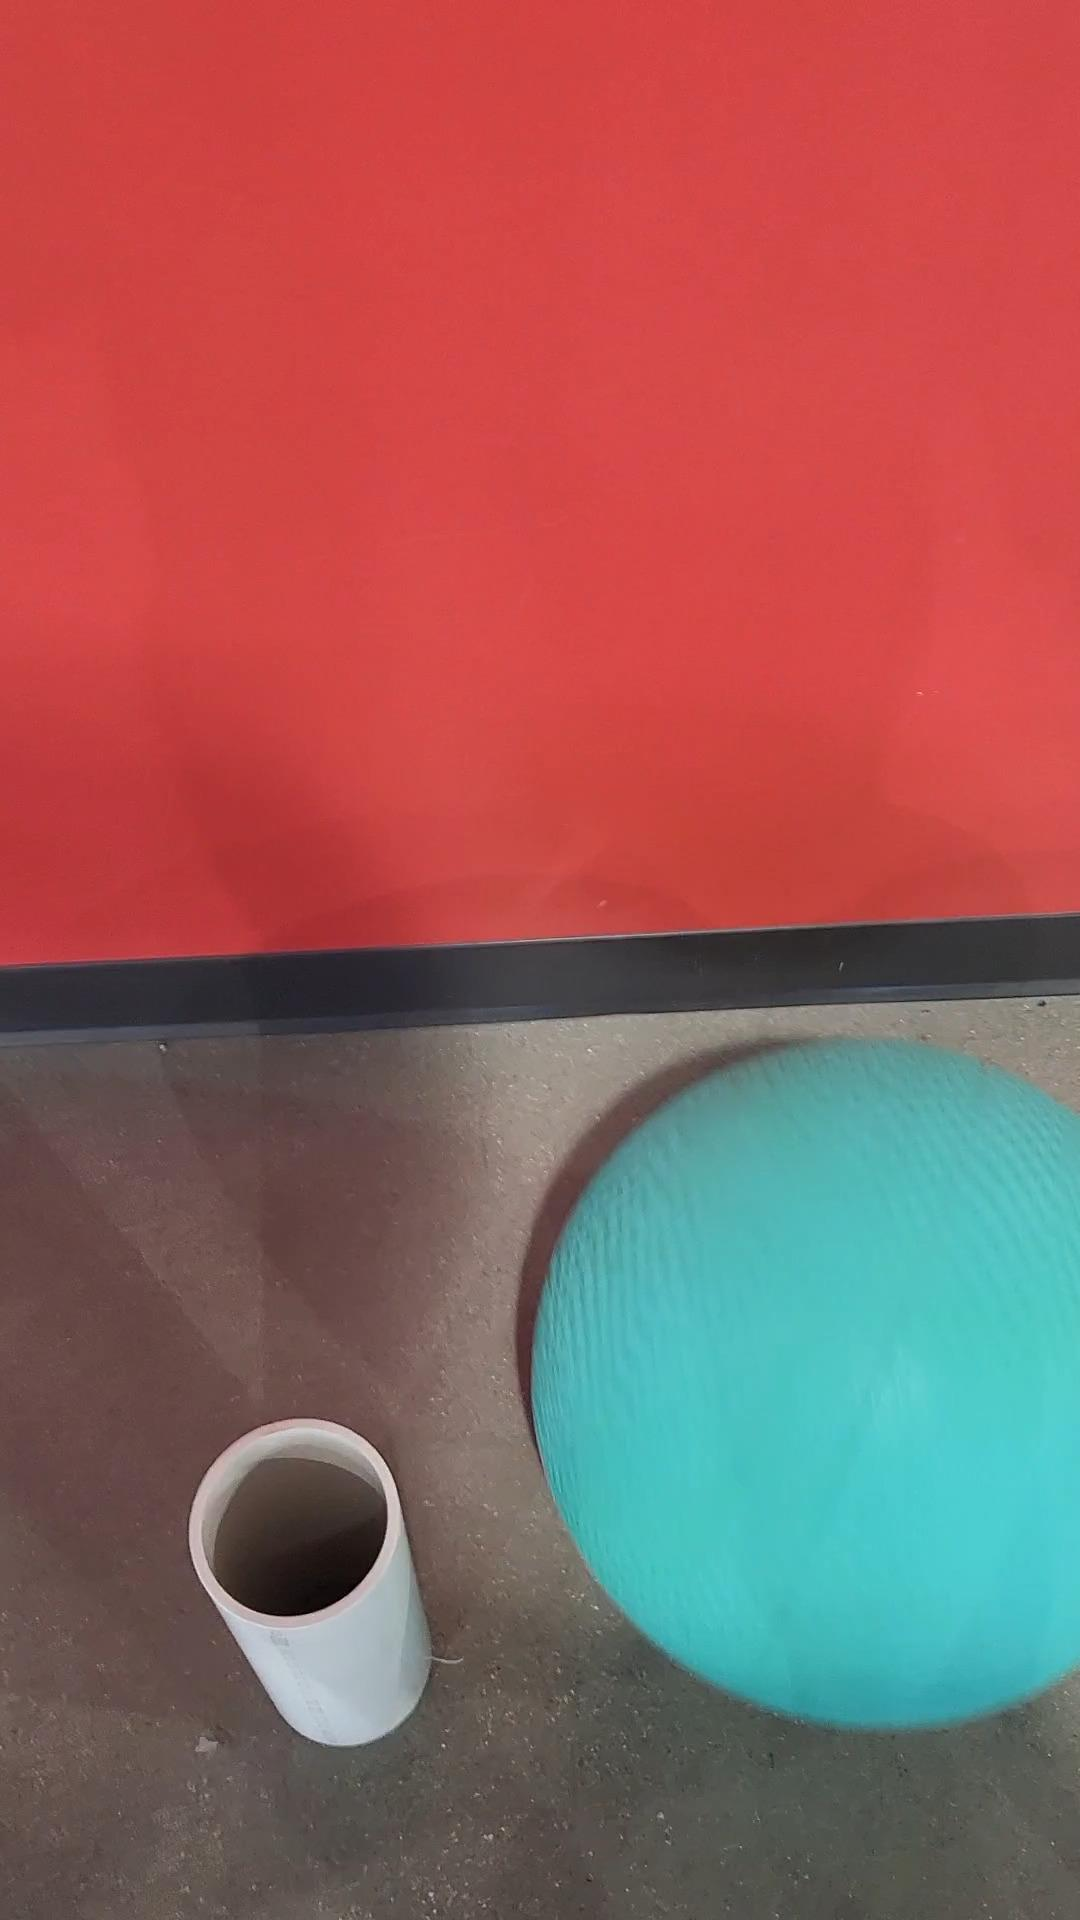algae: (534, 1035, 1079, 1729)
coral: (185, 1412, 436, 1754)
